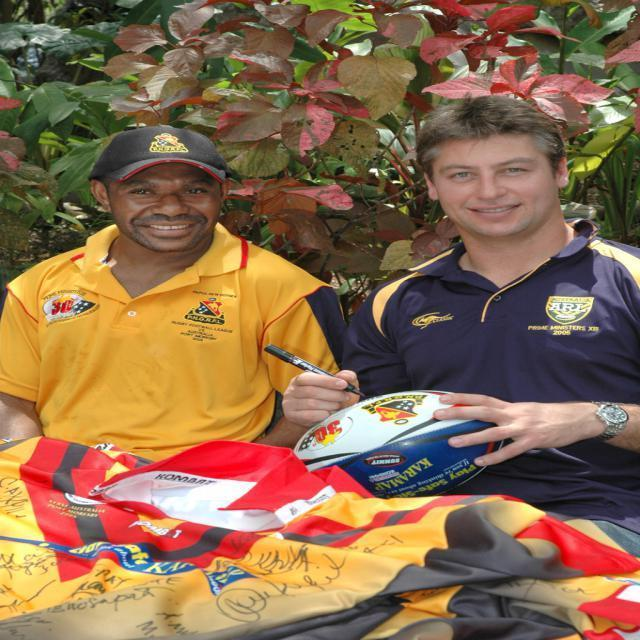ball: (283, 389, 508, 498)
